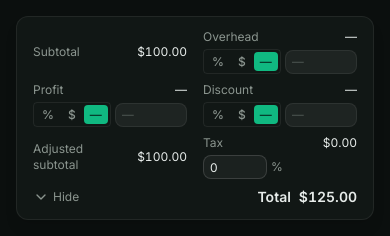
it: TotalsCard floating card (#569) › collapses to a total-only pill: breakdown removed from the DOM, Total stays
The image size is (390, 236).
Click the button with aria-label "totals". click: (56, 197)
box: [33,189,79,205]
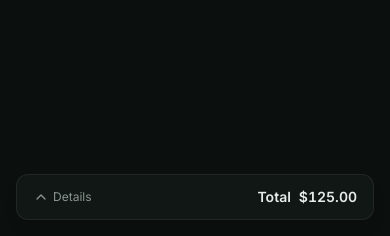
Result: the text "Subtotal" is gone
Result: the text "Overhead" is gone
Result: the text "Tax" is gone
